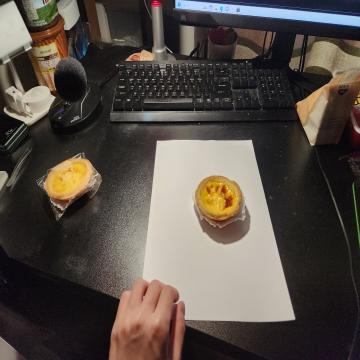EggTart: (194, 175, 245, 226)
